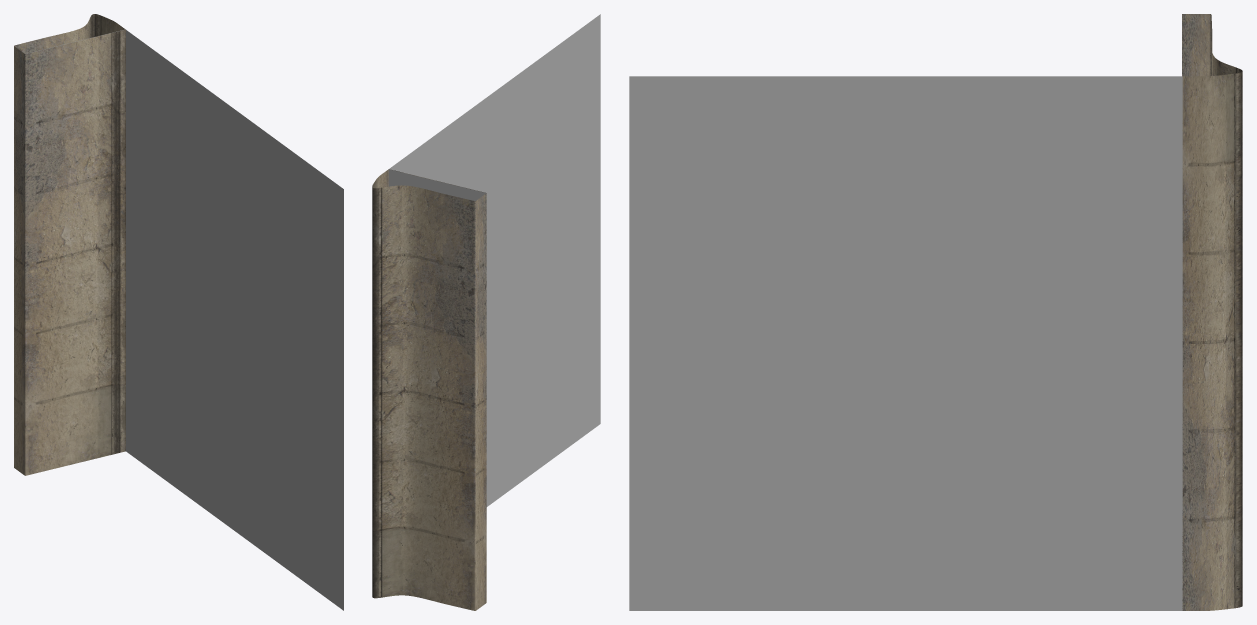
Rendered from left.DAE.
3 renders of one model, left to right at view 1: azimuth 30°, elevation 25°; view 2: azimuth 150°, elevation 25°; view 3: azimuth 270°, elevation 25°, orthographic. The views are drawn at different scales.
Parts seen in each view (by area): view 1: Box002; view 2: Box002; view 3: Box002.
Part boxes in pixels (x1,y1,x2,y2): Box002: (14,14,343,610); Box002: (372,14,600,610); Box002: (629,14,1242,610).
Size of the model in its own units: 9.84 by 40.94 by 39.37.
